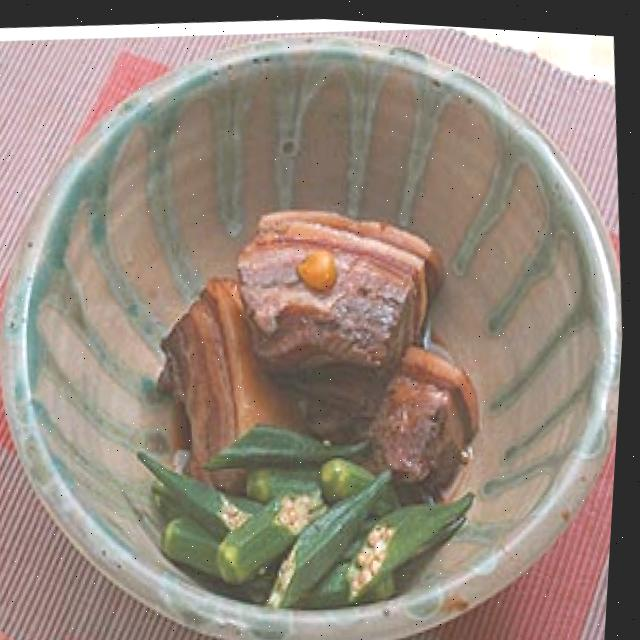猪肉菜式: (60, 97, 576, 567)
